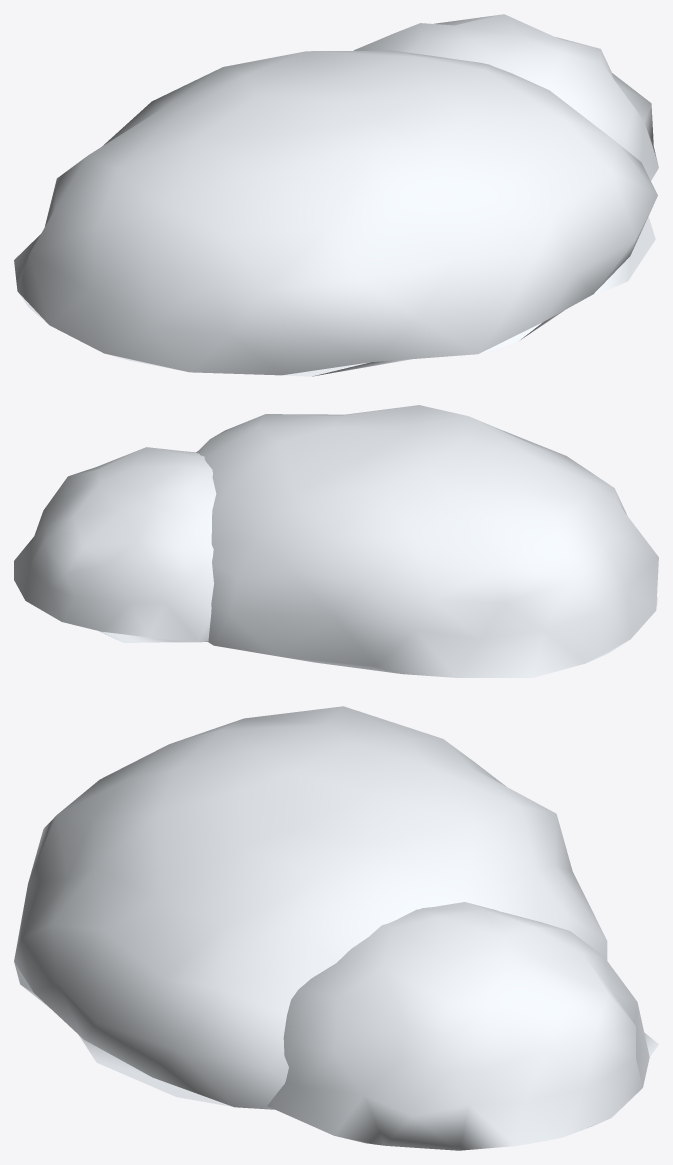
Rendered from SnowMound.fbx.
3 views of the same model, one above another, from view 1: azimuth 30°, elevation 25°; view 2: azimuth 150°, elevation 25°; view 3: azimuth 270°, elevation 25° (orthographic). The views are drawn at different scales.
Parts seen in each view (by area): view 1: SnowMound; view 2: SnowMound; view 3: SnowMound.
Part boxes in pixels (left/top/right/bottom): SnowMound: left=14, top=14, right=658, bottom=376; SnowMound: left=14, top=405, right=658, bottom=677; SnowMound: left=14, top=706, right=658, bottom=1150.
Bounding box in the file's own units: 1.8 × 0.4354 × 1.4.
1 material, 1 textured.
